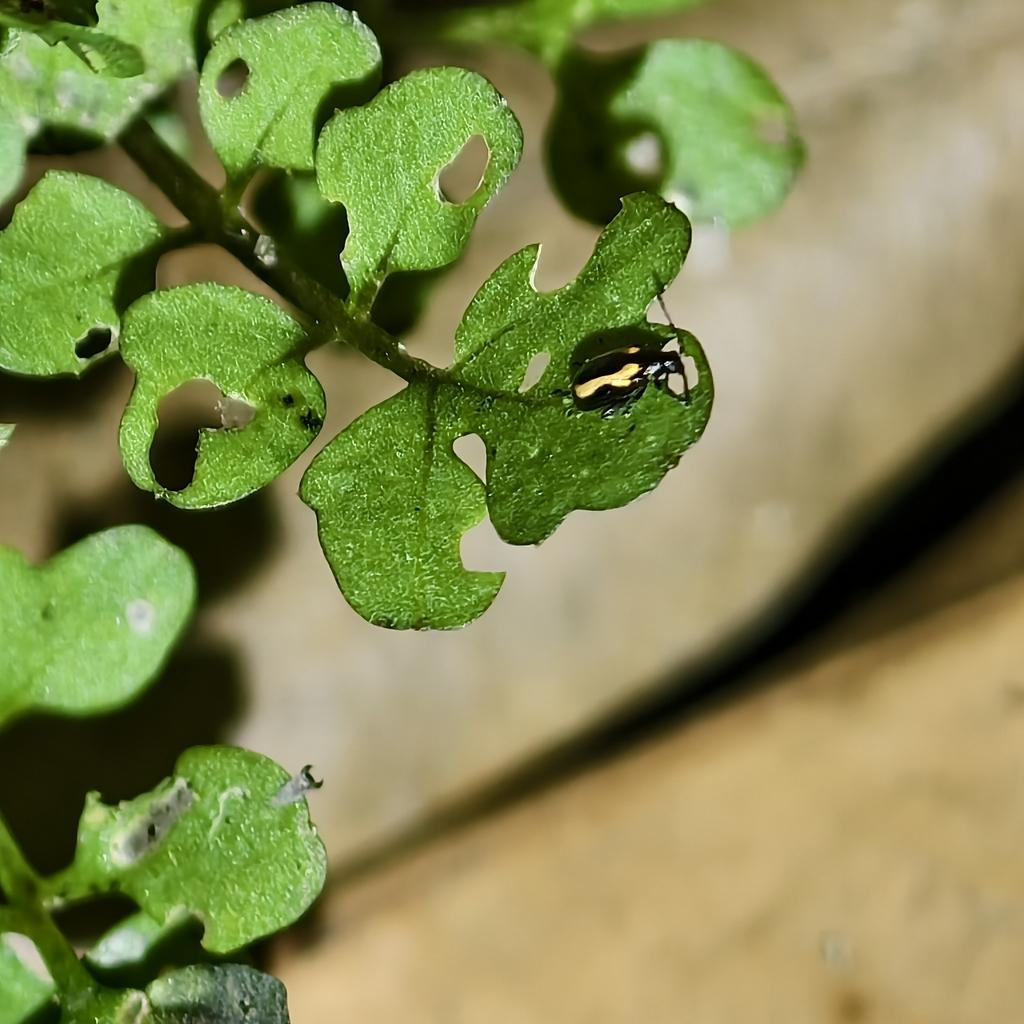flea_beetle: (524, 255, 726, 464)
